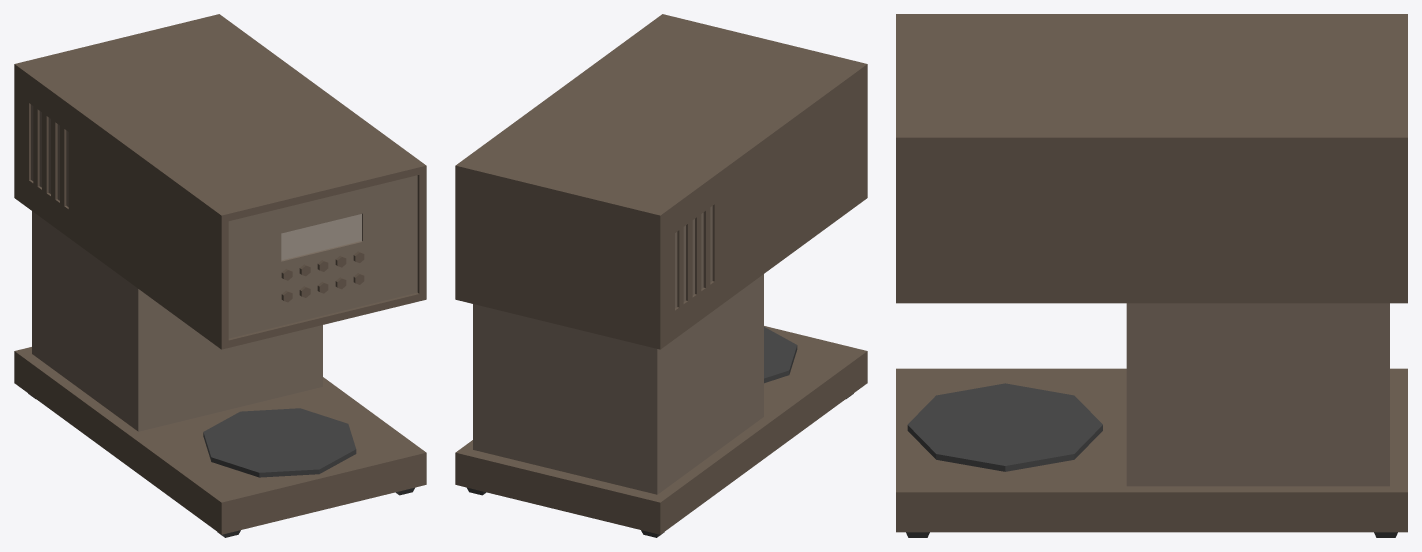
File: CoffeeMachine_02.fbx
3 renders of one model, left to right at view 1: azimuth 30°, elevation 25°; view 2: azimuth 150°, elevation 25°; view 3: azimuth 270°, elevation 25°, orthographic. The views are drawn at different scales.
Visible parts, largest first — view 1: CoffeeMachine_02; view 2: CoffeeMachine_02; view 3: CoffeeMachine_02.
Part boxes in pixels (box(x1,y1,x2,y2)): CoffeeMachine_02: box(14, 14, 426, 537); CoffeeMachine_02: box(455, 14, 867, 537); CoffeeMachine_02: box(896, 14, 1407, 537).
Size of the model in its own units: 30 by 45.89 by 52.5.
